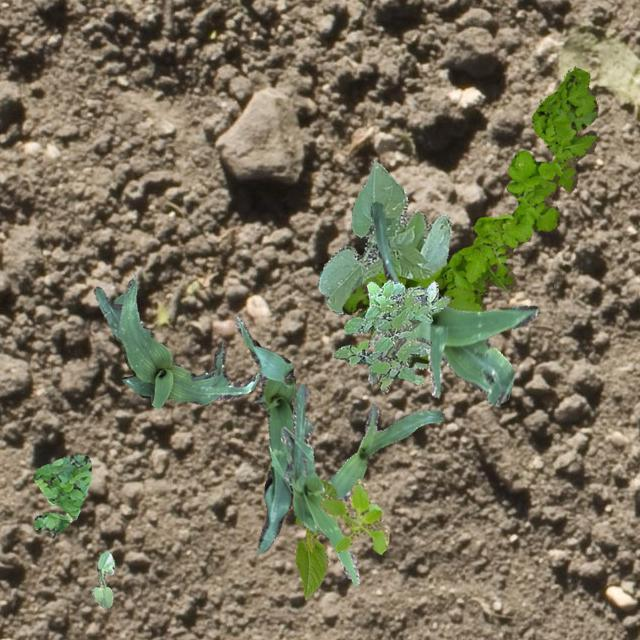crop: (366, 200, 538, 404), (316, 160, 449, 370), (93, 278, 260, 408), (280, 382, 358, 584), (234, 316, 294, 552), (326, 400, 444, 500), (295, 479, 335, 598), (90, 550, 114, 608)
weed: (342, 66, 596, 366), (332, 278, 448, 392), (318, 478, 388, 554), (31, 454, 90, 536)
